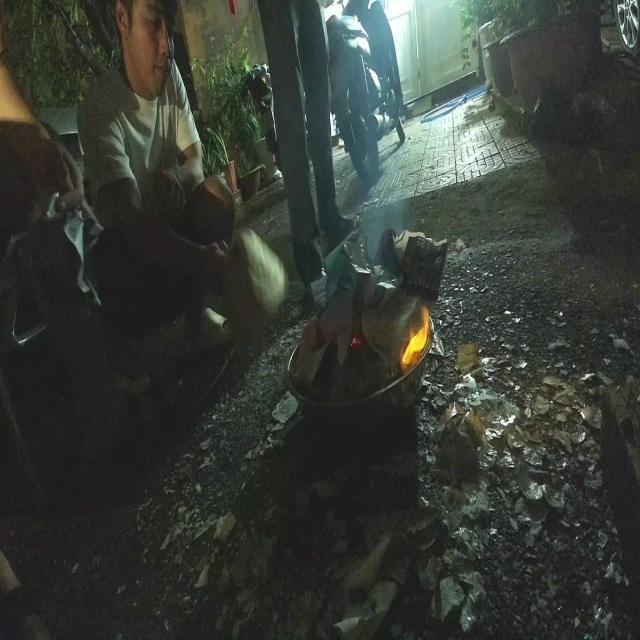Fire: (400, 302, 428, 374)
Smoke: (354, 159, 402, 256)
